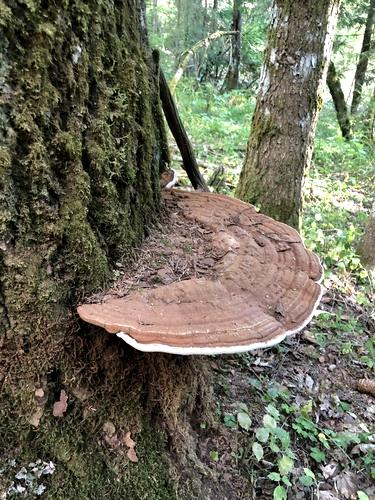Ganoderma - Fruit Body: (75, 189, 323, 345)
